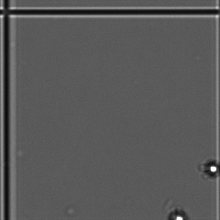Living Cell: (200, 154, 219, 180), (168, 208, 189, 220)
